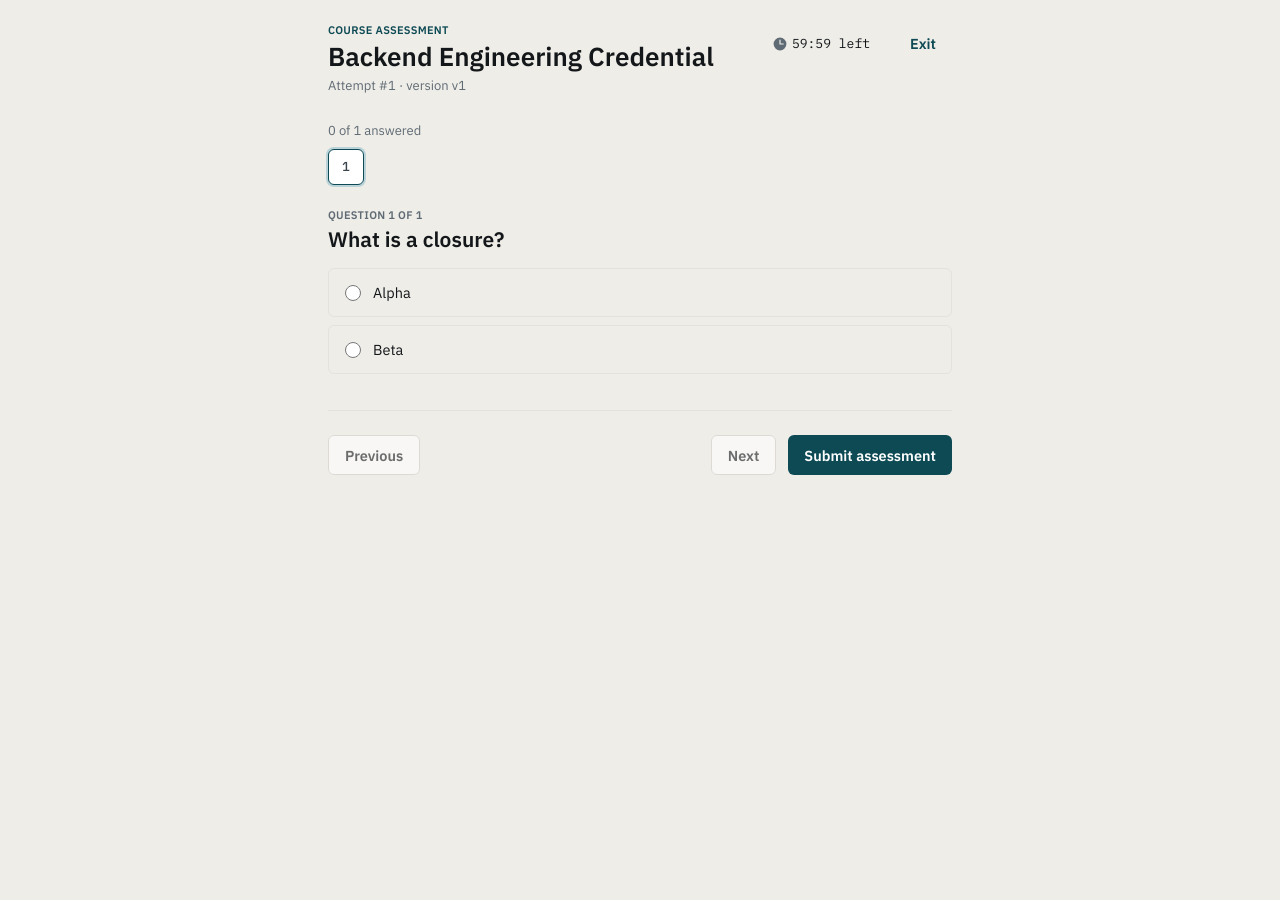
Scenario: AttemptShell submission › does not submit if the attempt expires while flushing autosaves
The image size is (1280, 900).
What coordinates should you click on to do the following:
click the radio button labelled "Alpha"
I would click on:
 (353, 293)
Its box is [345,285,361,301].
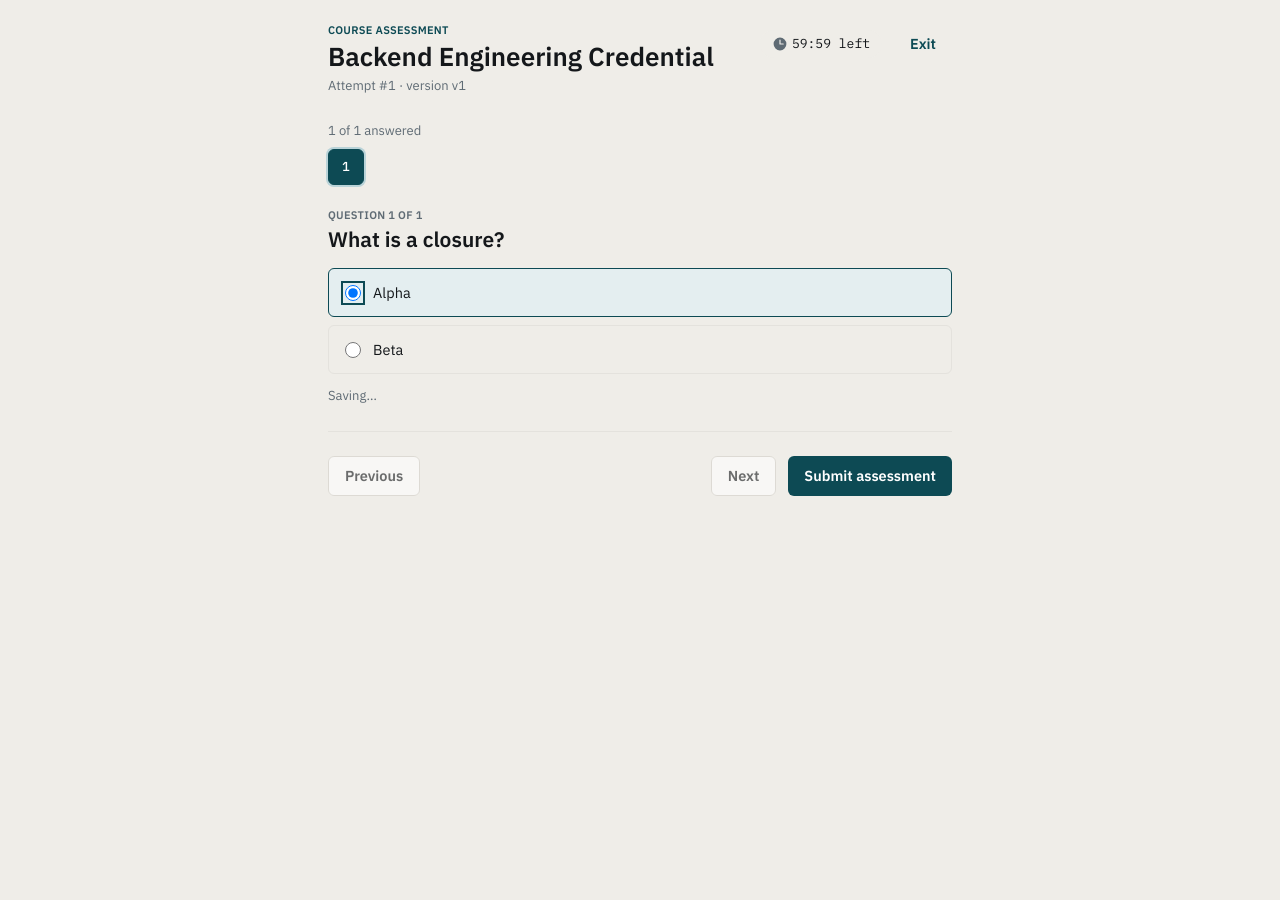
What coordinates should you click on to do the following:
click the button "Submit assessment"
I would click on:
 (870, 476)
Its box is [788,456,952,496].
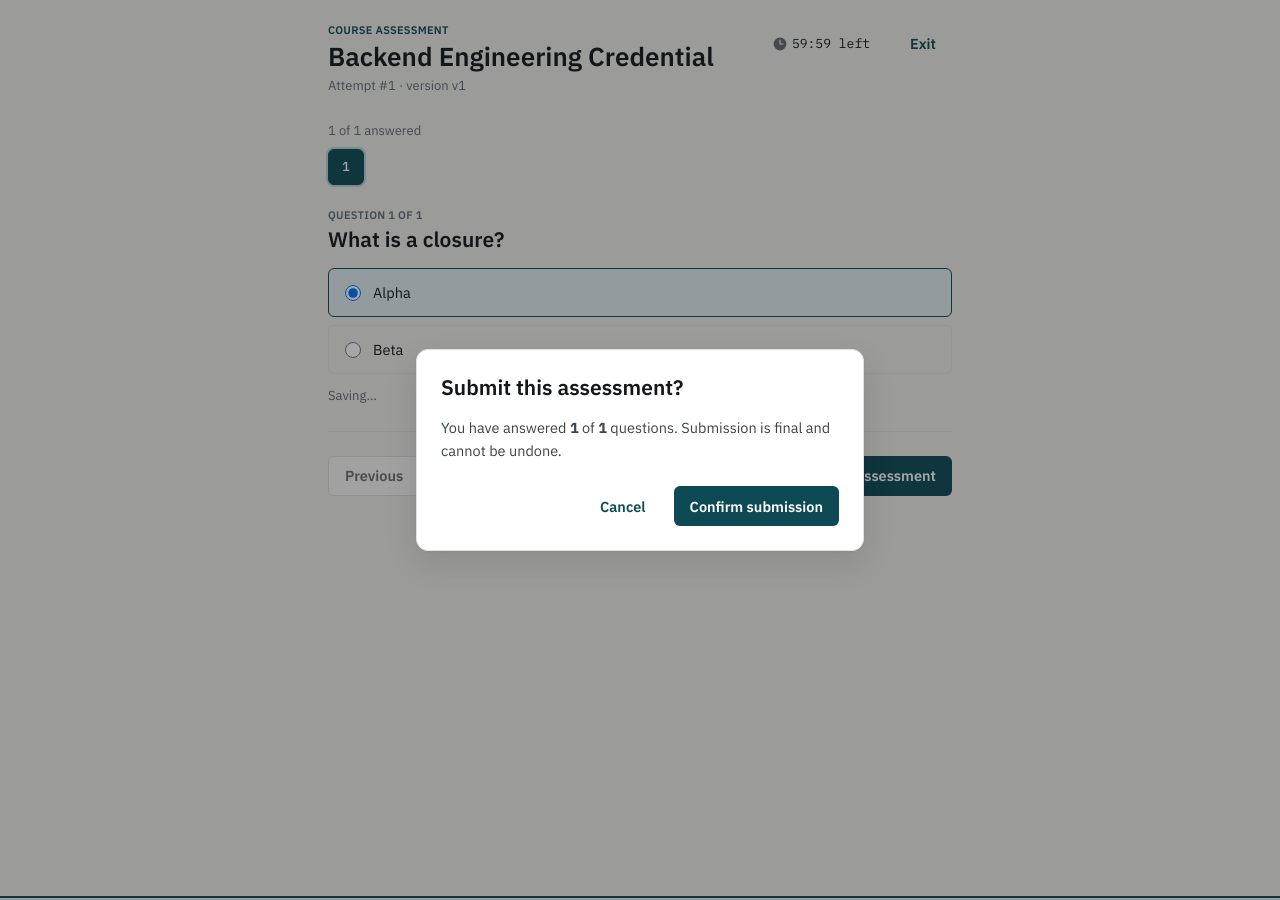
What coordinates should you click on to do the following:
click the button "Confirm submission"
I would click on:
 (756, 506)
Its box is [674,486,839,526].
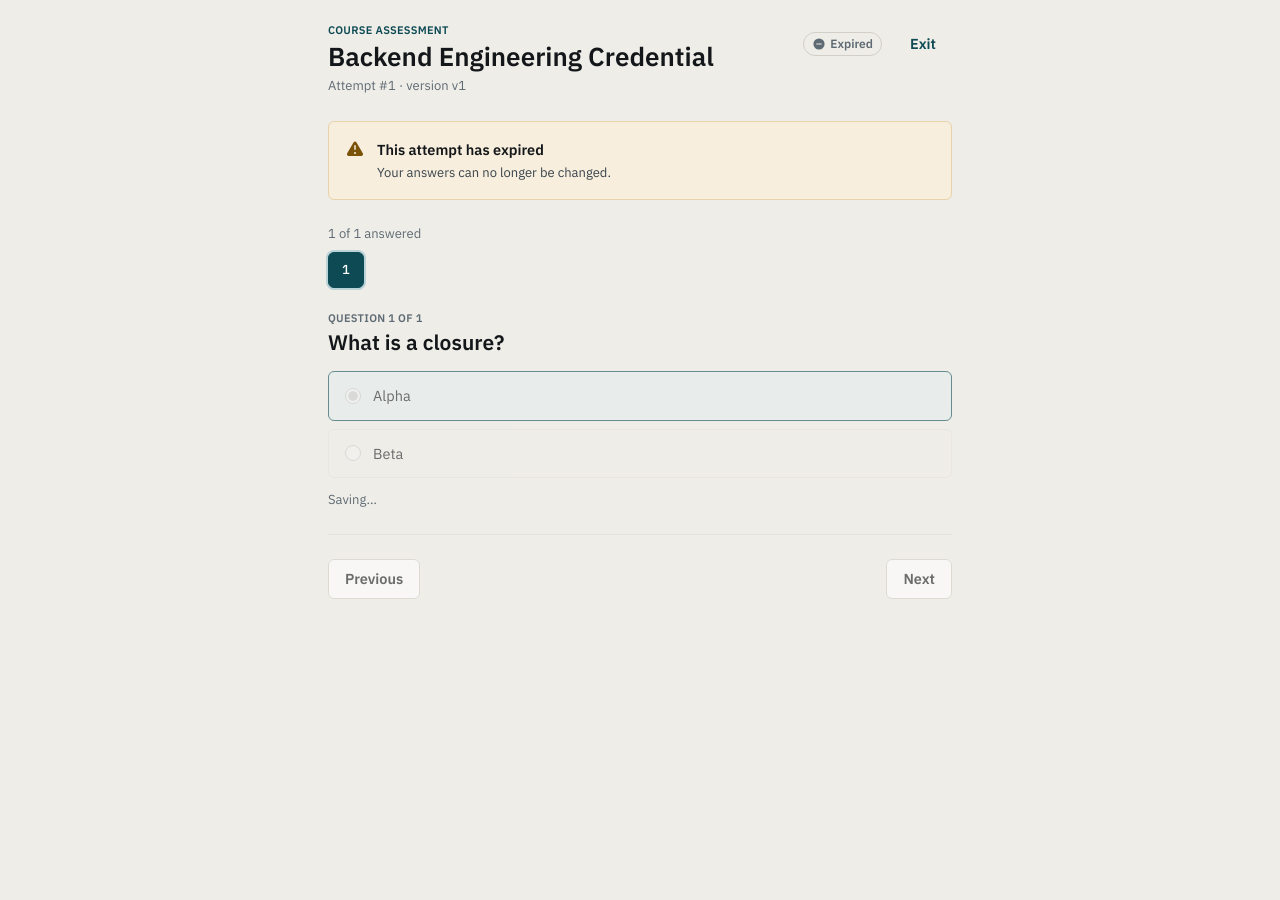
Expected: the text "This attempt has expired" is shown, [377,140,544,158]
